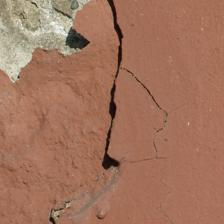Crack: (94, 4, 129, 172), (119, 66, 173, 170)
